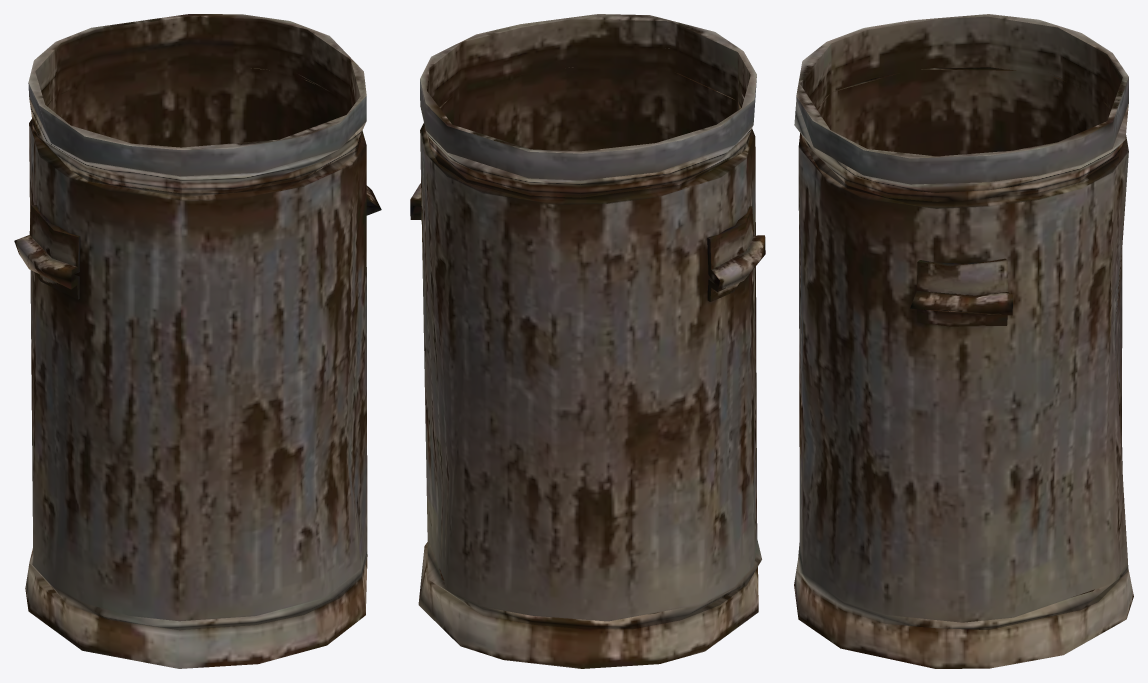
File: bin.glb
3 renders of one model, left to right at view 1: azimuth 30°, elevation 25°; view 2: azimuth 150°, elevation 25°; view 3: azimuth 270°, elevation 25°, orthographic.
Parts seen in each view (by area): view 1: lod1; view 2: lod1; view 3: lod1.
Part boxes in pixels (x1,y1,x2,y2): lod1: [14, 14, 381, 668]; lod1: [410, 14, 765, 668]; lod1: [794, 14, 1133, 668].
Bounding box in the file's own units: 0.6038 × 0.9 × 0.5395.
Materials: 1 (1 with a texture image).
